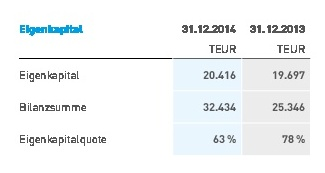table: (0, 0, 325, 173)
